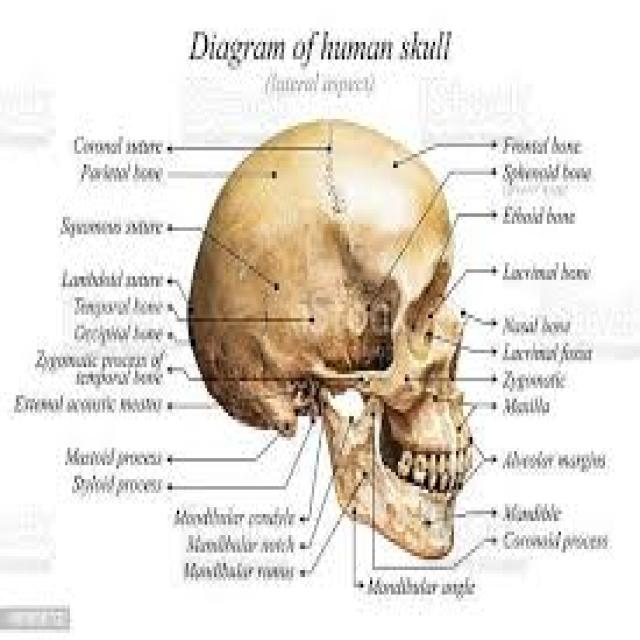skull: (180, 103, 483, 567)
